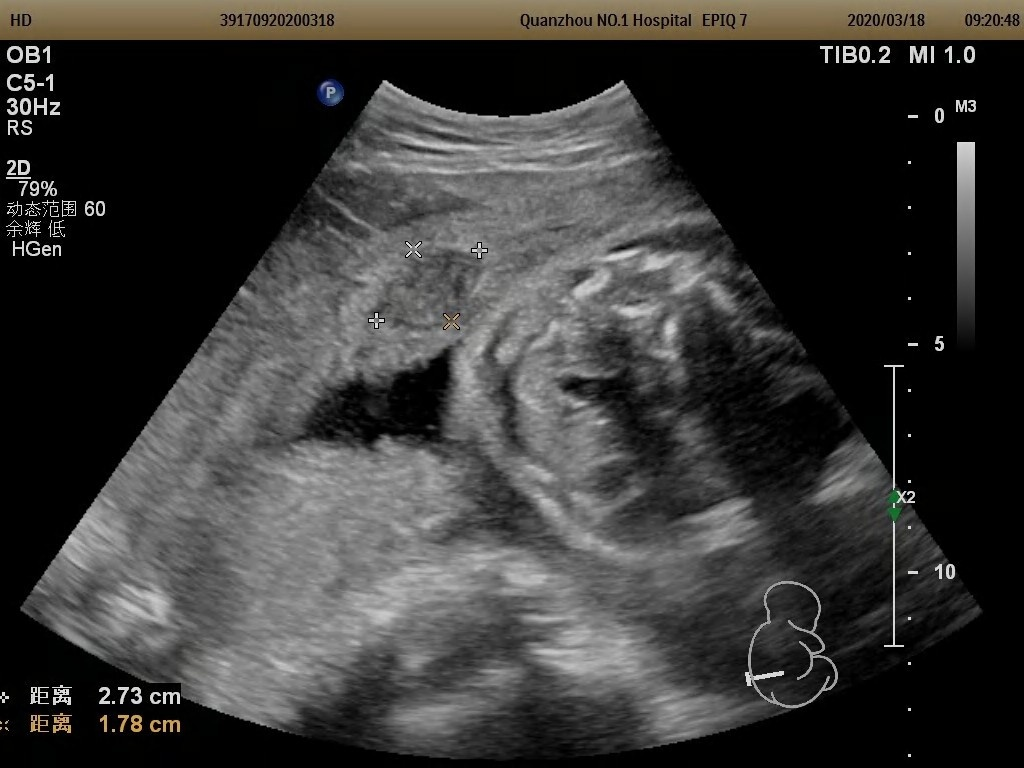肌瘤: (377, 248, 481, 321)
